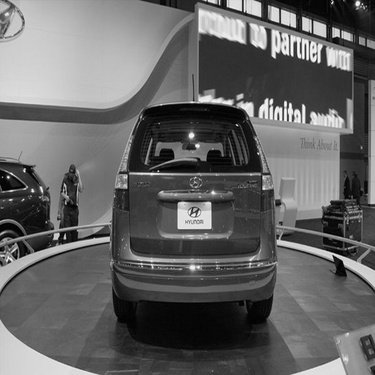car: (82, 92, 292, 326), (1, 157, 56, 258)
